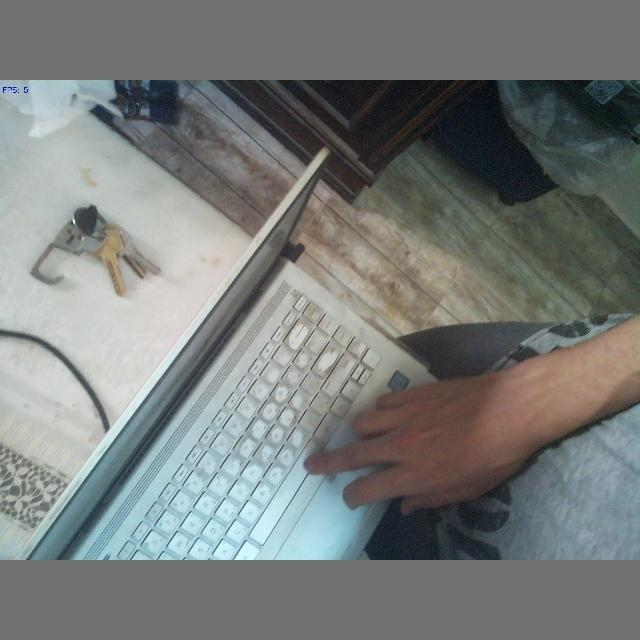Keys: (17, 200, 179, 300)
